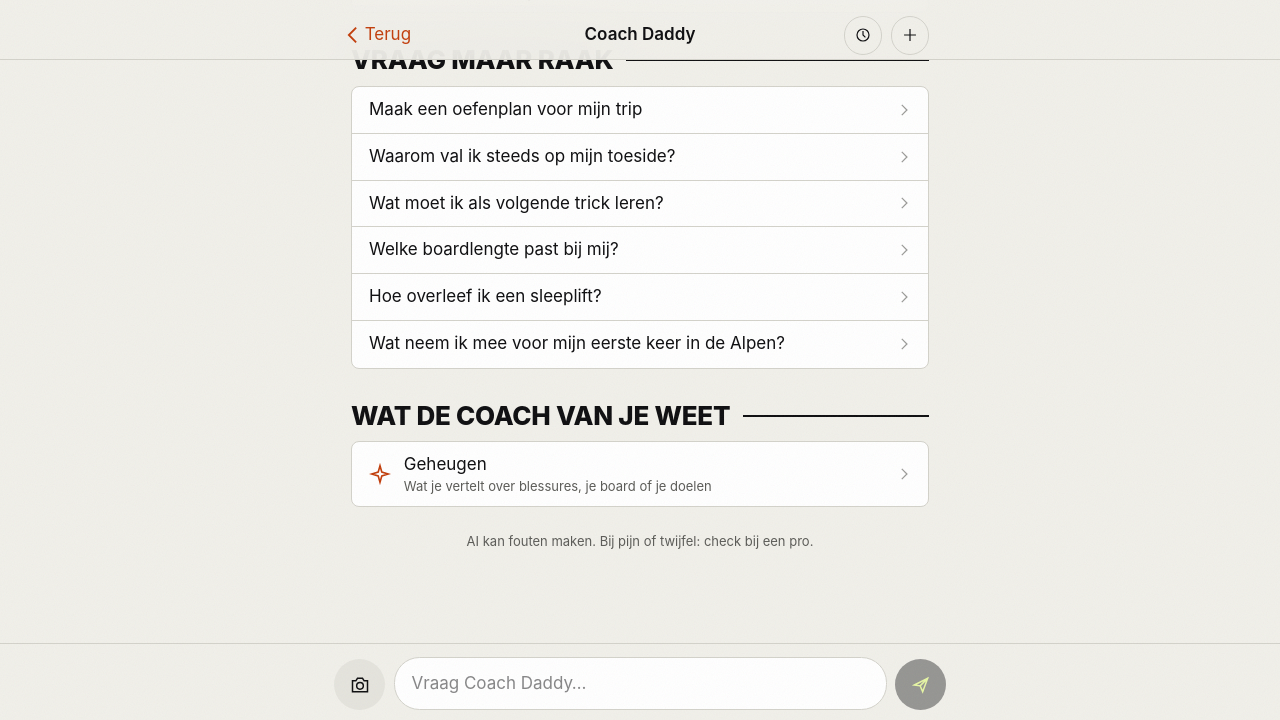
Test case: gesprek › antwoord met een doel-knop: tikken zet het doel en de knop wordt "Gezet"
The width and height of the screenshot is (1280, 720).
(page scrolled)
Click the button "Wat moet ik als volgende trick leren?".
click(640, 204)  # box top-left (352, 181), bottom-right (928, 227)
(page scrolled)
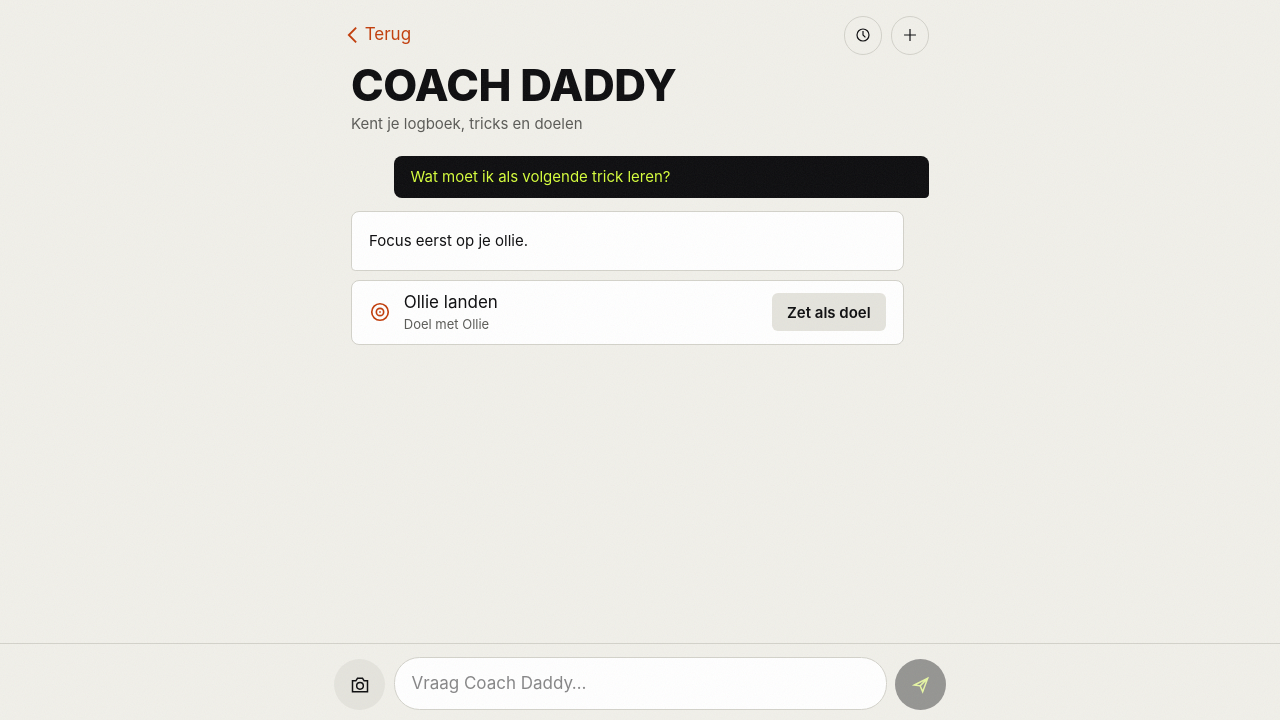
Now the text "Focus eerst op je ollie." is shown, box top-left (369, 231), bottom-right (528, 250)
Now the text "Ollie landen" is shown, box top-left (404, 292), bottom-right (498, 312)
Click the button "Zet als doel".
click(829, 312)  # box top-left (772, 293), bottom-right (886, 331)
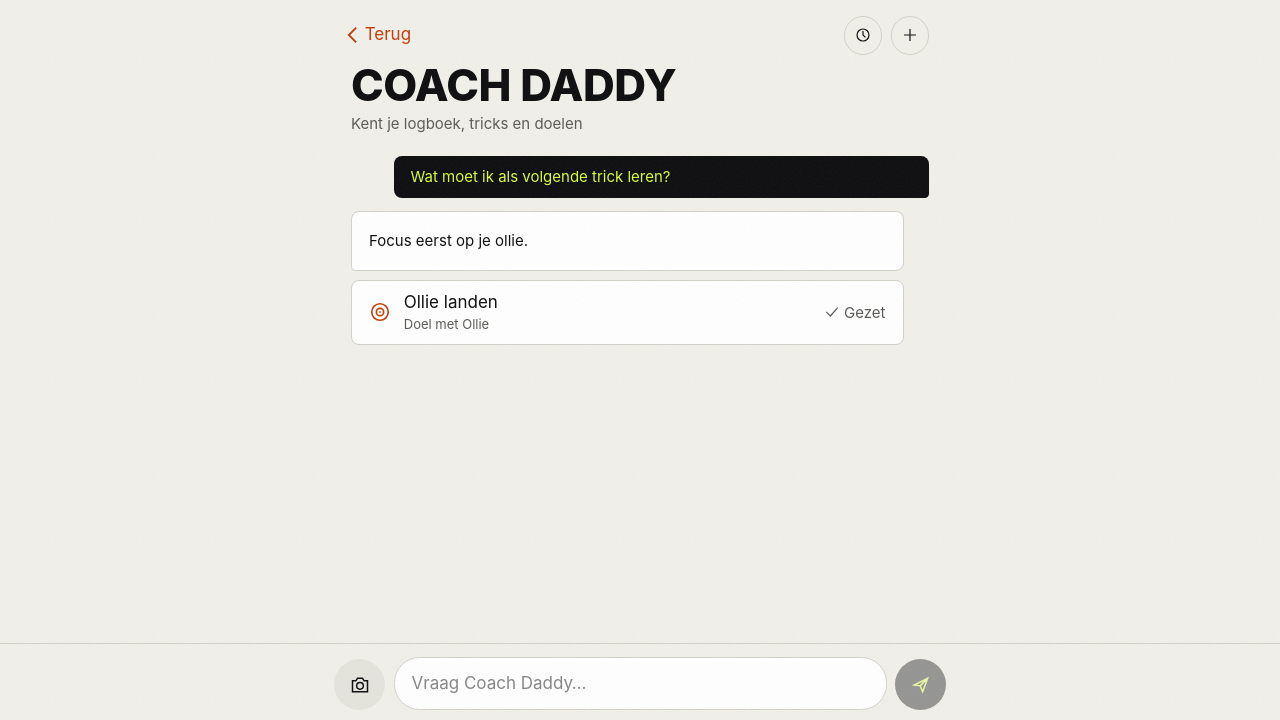
Now the text "Gezet" is shown, box top-left (824, 302), bottom-right (886, 323)
